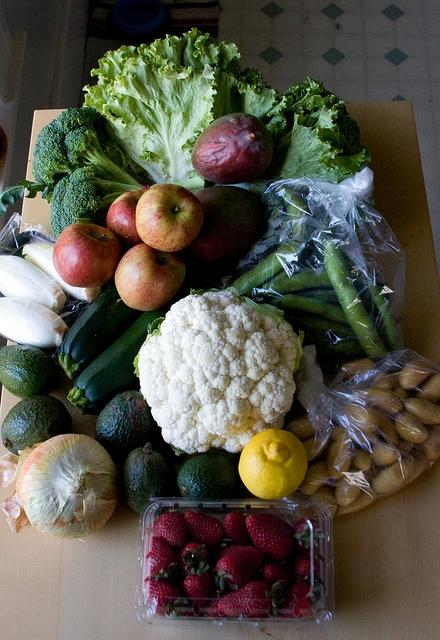apple: (184, 185, 269, 278), (116, 243, 186, 312), (135, 184, 204, 252), (52, 222, 122, 288), (106, 189, 147, 257)
avocado: (94, 390, 164, 470), (0, 394, 72, 456), (123, 442, 174, 515), (0, 345, 59, 400), (177, 452, 245, 498)
broccoli: (32, 106, 145, 239)
cauliflower: (132, 286, 304, 456)
lemon: (239, 428, 308, 500)
lettuce: (100, 56, 218, 184), (334, 116, 360, 140)
onion: (0, 434, 120, 540), (22, 242, 103, 302), (0, 254, 67, 314), (1, 298, 70, 350)
strawberry: (216, 580, 286, 618), (215, 546, 264, 594), (246, 514, 294, 560), (184, 511, 232, 548), (144, 579, 189, 616), (142, 534, 178, 580), (184, 561, 215, 608), (154, 512, 188, 550), (224, 512, 254, 547), (293, 518, 325, 549), (177, 542, 208, 573), (292, 553, 320, 584), (262, 564, 295, 590), (203, 591, 225, 617)
vegetable marrow: (66, 292, 182, 415), (58, 277, 146, 380)
